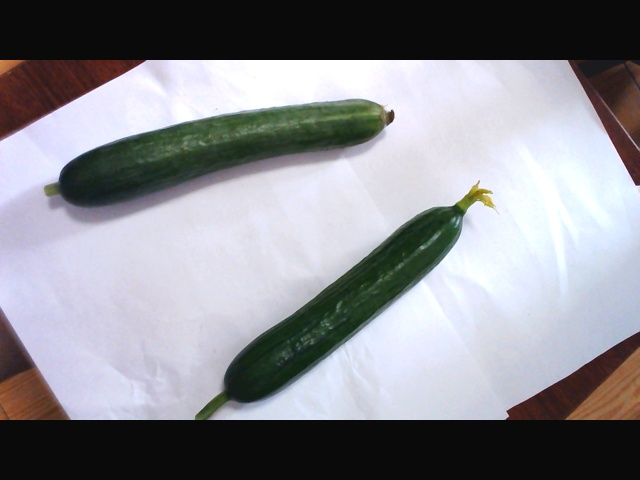cucumber: (200, 196, 520, 413), (50, 93, 394, 218)
